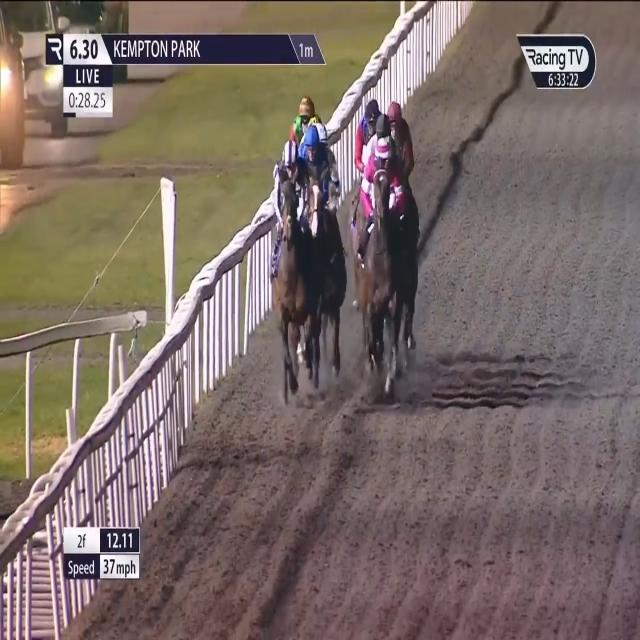horses-racing: (270, 144, 322, 388), (362, 136, 404, 377), (298, 125, 332, 255), (388, 99, 414, 175), (364, 114, 398, 160), (354, 98, 384, 145), (294, 90, 316, 124), (315, 121, 329, 153), (305, 110, 324, 133)
